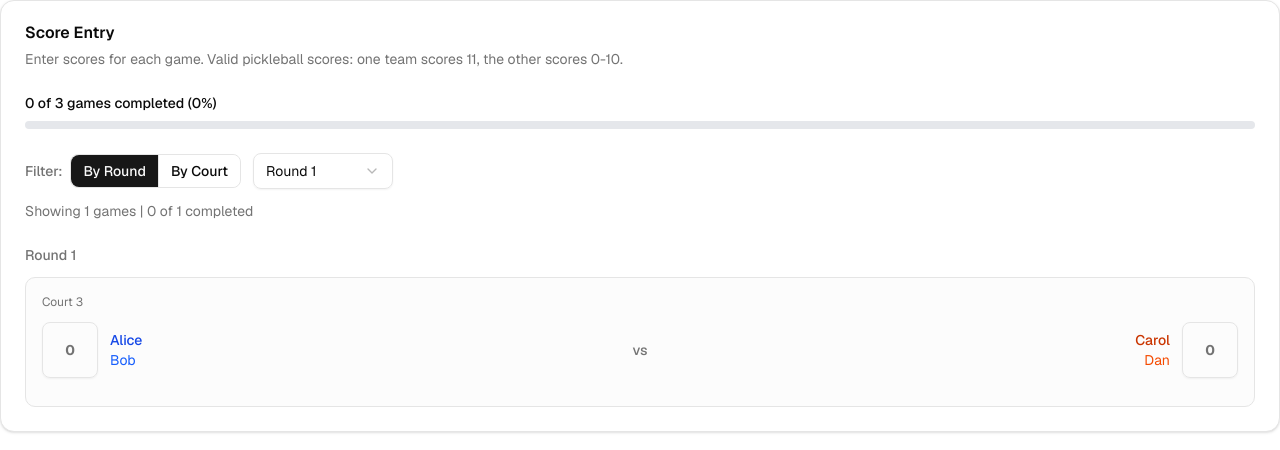
Test: ScoreEntry › filter controls › resets to first option when changing filter type
Expected: the dropdown with test id "filter-dropdown" reads "Round 1", [253, 153, 393, 189]
Click "By Court"
Click the button "By Court": click(199, 171) [158, 155, 240, 187]
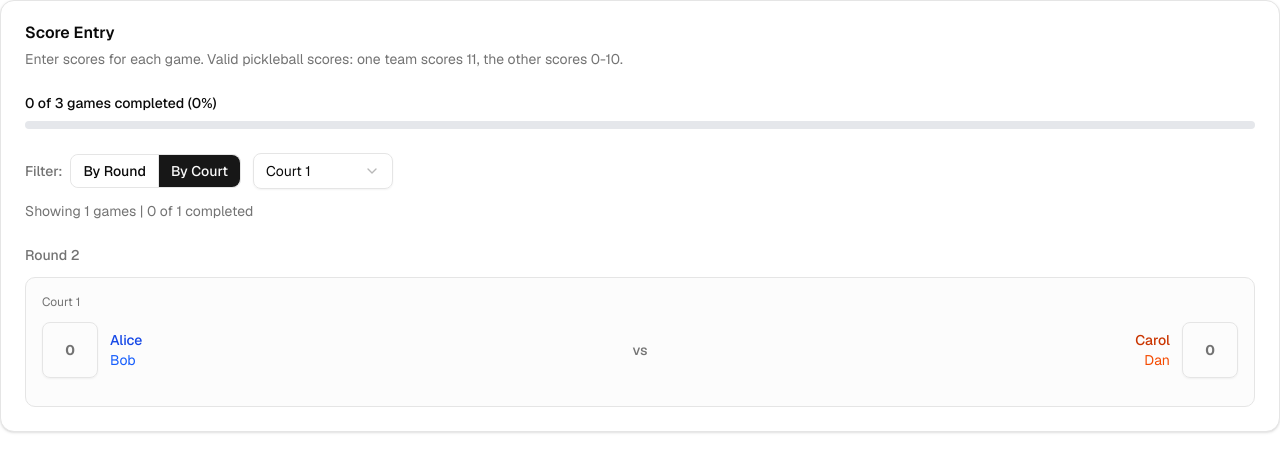
Expected: the dropdown with test id "filter-dropdown" reads "Court 1", [253, 153, 393, 189]
